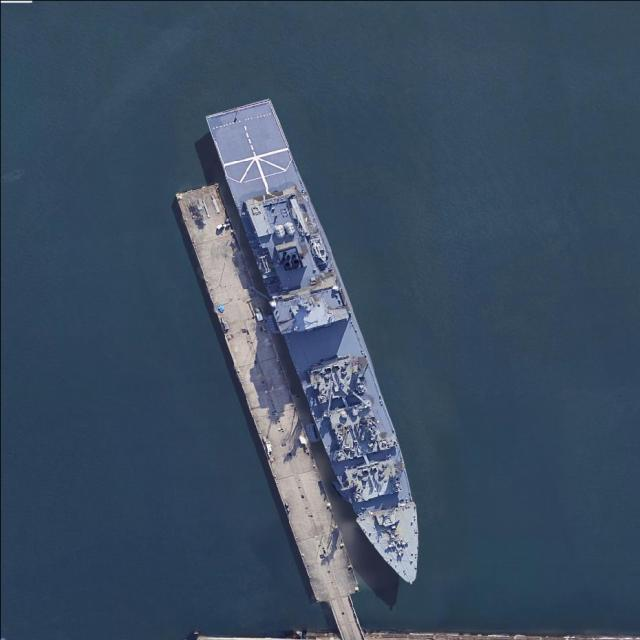Auxiliary Ships: (202, 92, 447, 596)
